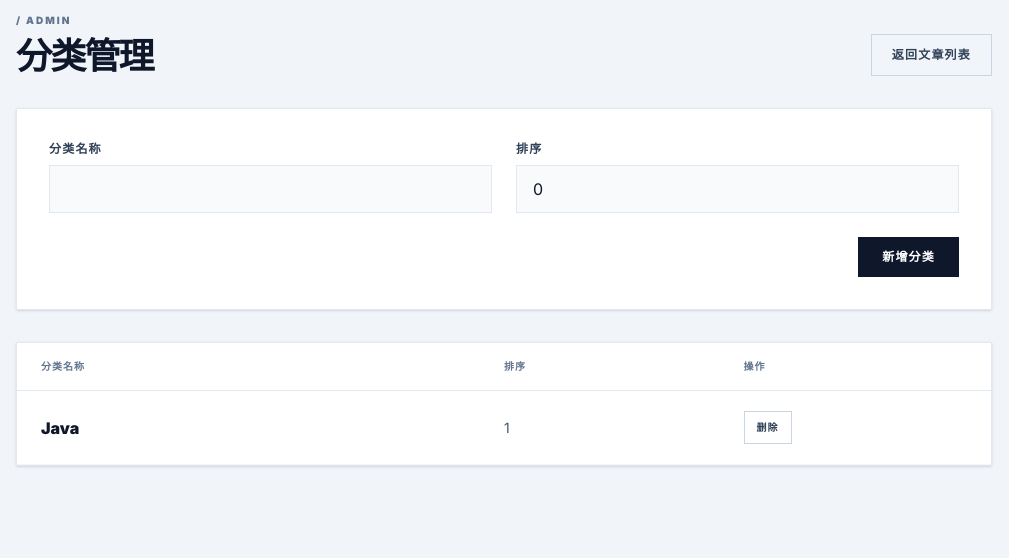
Test: AdminCategories page › loads categories and supports create/delete actions
The width and height of the screenshot is (1009, 558).
Expected: the text "Java" is shown, [41,418,79,438]
Type "Spring" into the field labelled "分类名称" at (270, 189), box [49,165,492,213]
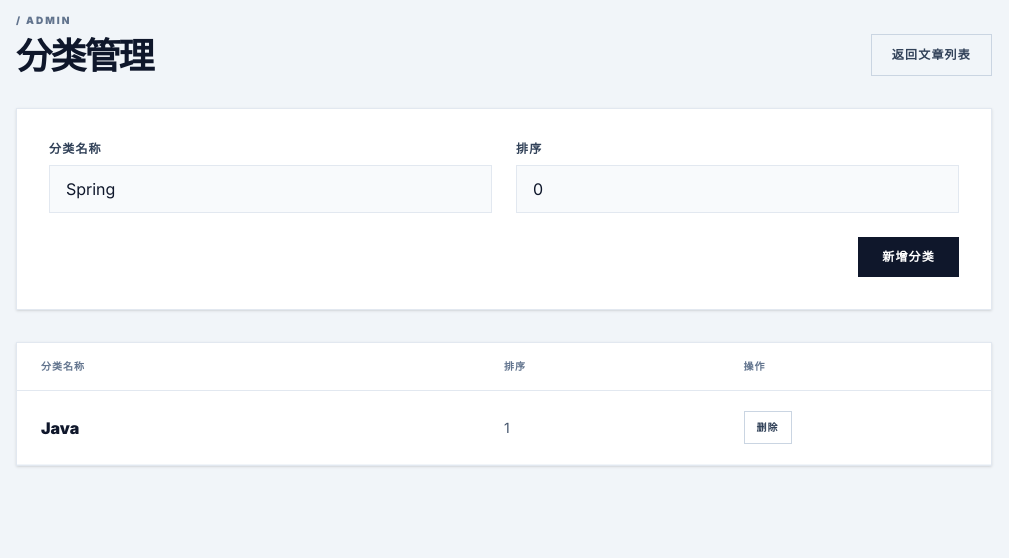
Replace the text in the field labelled "排序" with "2" at (738, 189), box [516,165,959,213]
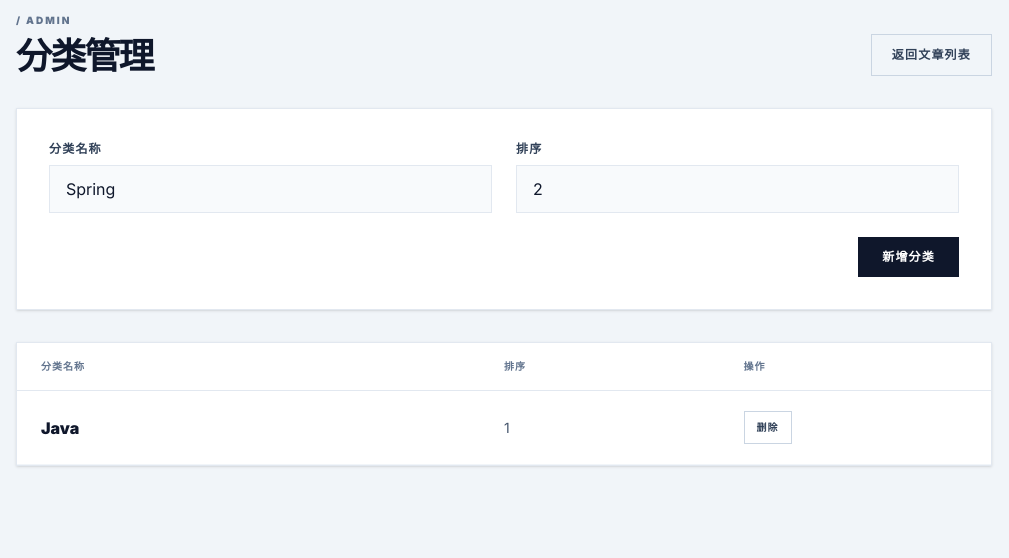
Click the button "新增分类" at (909, 257), box [858,237,959,277]
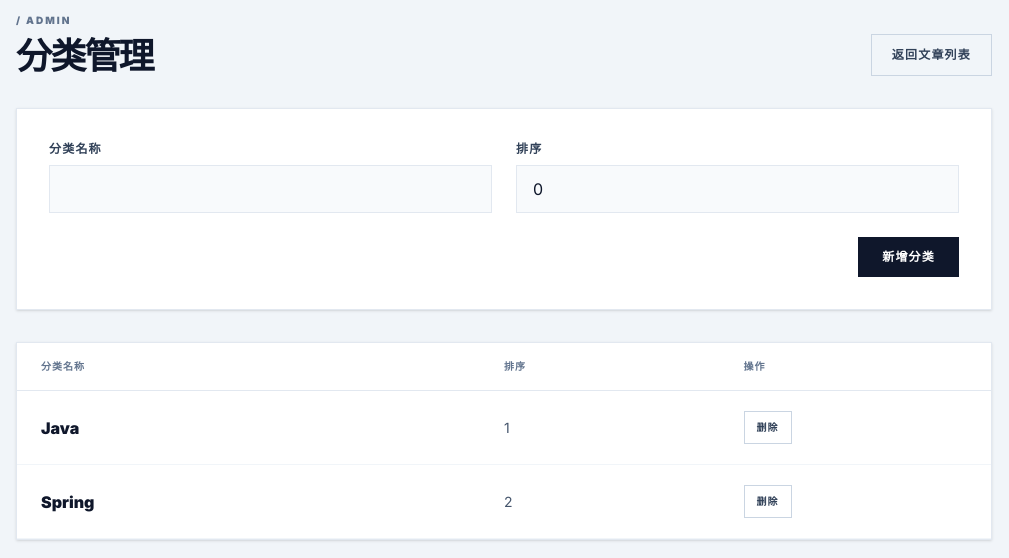
Now the text "Spring" is shown, box [41,492,94,512]
Click the button with aria-label "删除 Spring" at (768, 502), box [744,485,792,518]
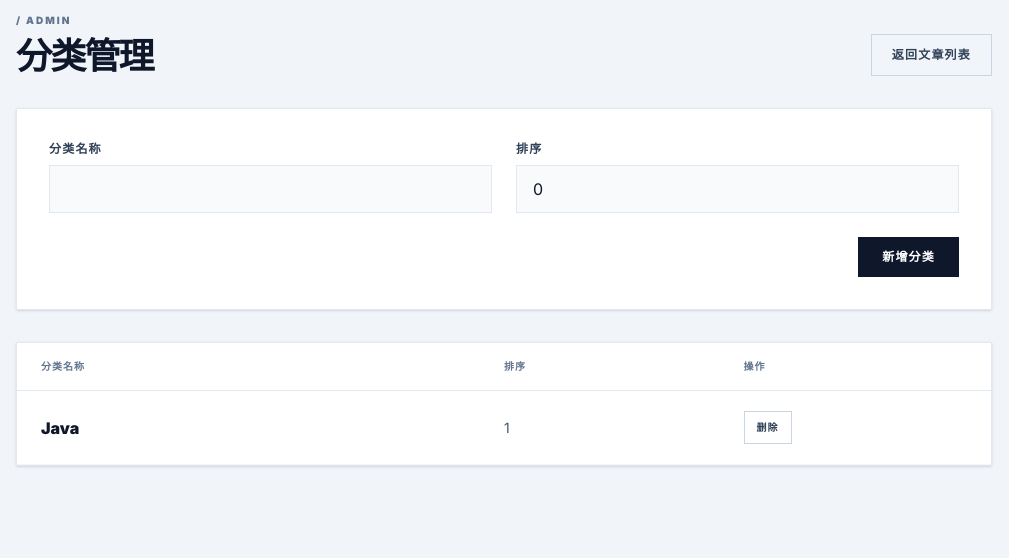
Now the text "Spring" is gone
